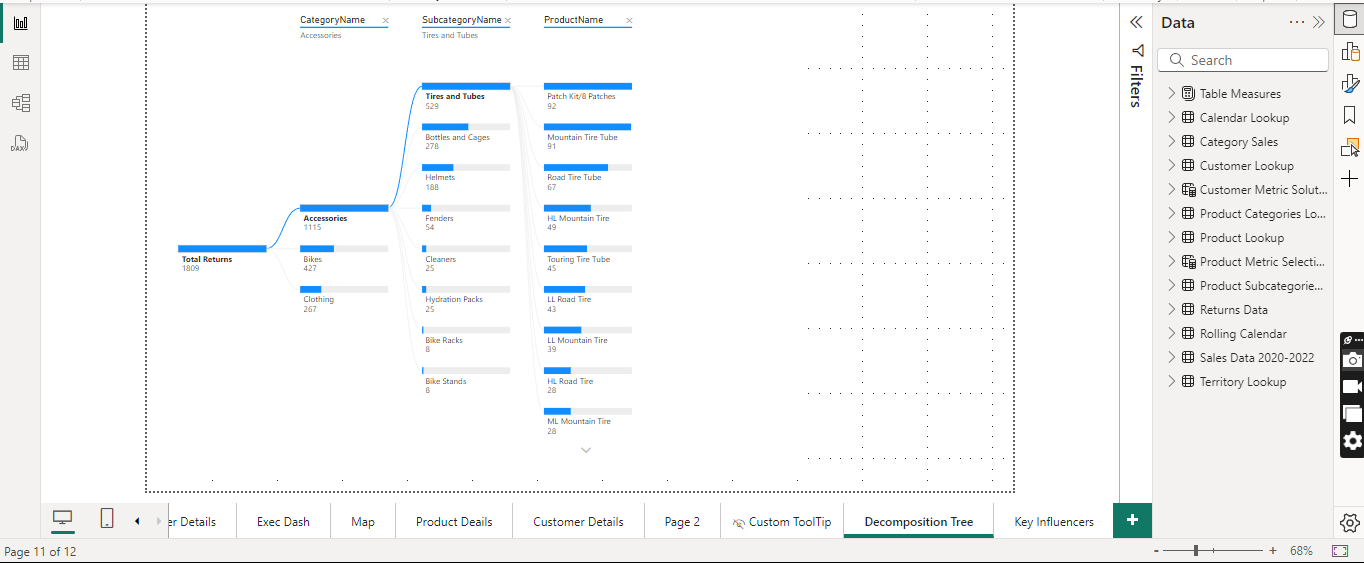

This screenshot's page, from the dashboard's own definition file:
{"tool":"powerbi","page":{"name":"Decomposition Tree","canvas":[1280,720],"ordinal":10},"visuals":[{"type":"decompositionTreeVisual","fields":{"Analyze":["Table Measures.Total Returns"],"ExplainBy":["Product Categories Lookup.CategoryName","Product Subcategories Lookup.SubcategoryName","Product Lookup.ProductName"]},"box":[16,0,960,704],"z":0}]}

Visuals, with their boxes on the page's 1280x720 design canvas (x1, y1, x2, y2). These are canvas units, not pixel positions in the 1364x563 screenshot, which may show the page scaled, cropped or inside an application window:
decompositionTreeVisual - Table Measures.Total Returns x Product Categories Lookup.CategoryName: [left=16, top=0, right=976, bottom=704]
